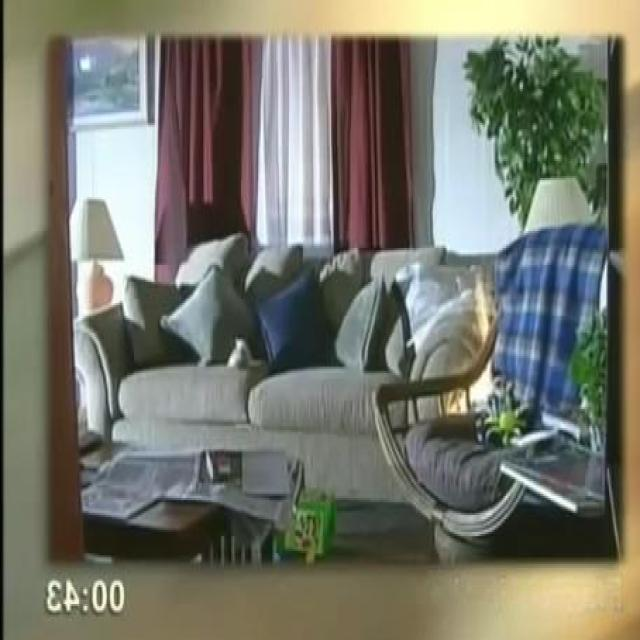smoke: (436, 274, 498, 416)
